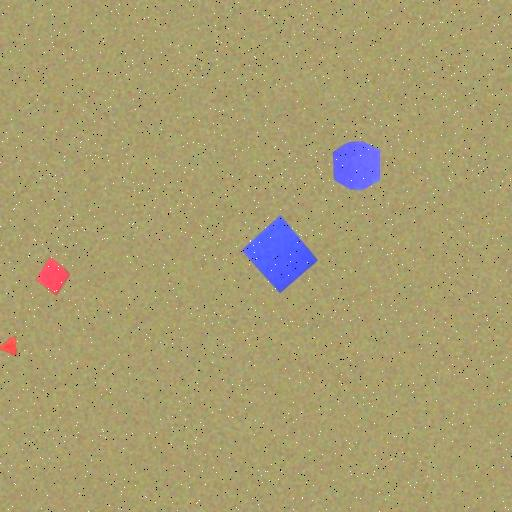BLUE_SQUARE: (242, 215, 319, 294)
RED_SQUARE: (36, 256, 70, 296)
